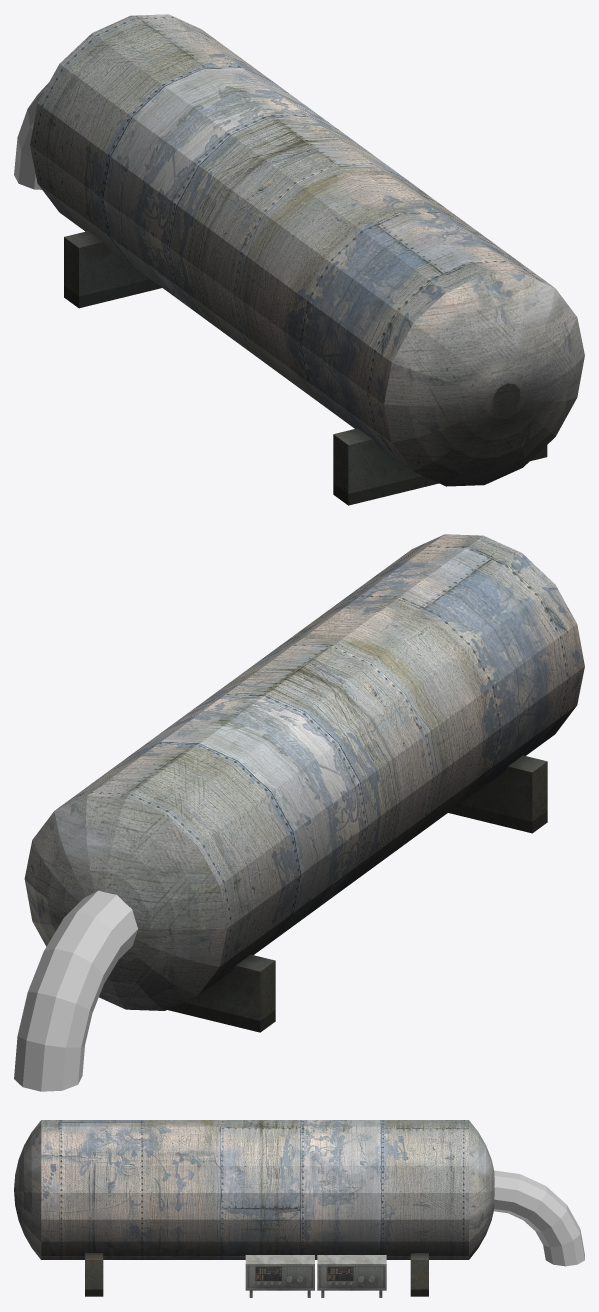
Rendered from tank_plated.fbx.
The picture shows the model from 3 angles, top to bottom: view 1: azimuth 30°, elevation 25°; view 2: azimuth 150°, elevation 25°; view 3: azimuth 270°, elevation 25°; orthographic projection. The views are drawn at different scales.
Visible parts, largest first — view 1: tank_plated_Layer1; view 2: tank_plated_Layer1; view 3: tank_plated_Layer1.
Part boxes in pixels (left/top/right/bottom): tank_plated_Layer1: left=14, top=14, right=584, bottom=505; tank_plated_Layer1: left=14, top=534, right=584, bottom=1091; tank_plated_Layer1: left=14, top=1120, right=584, bottom=1297.
Bounding box in the file's own units: 1.04 × 1.15 × 4.18.
